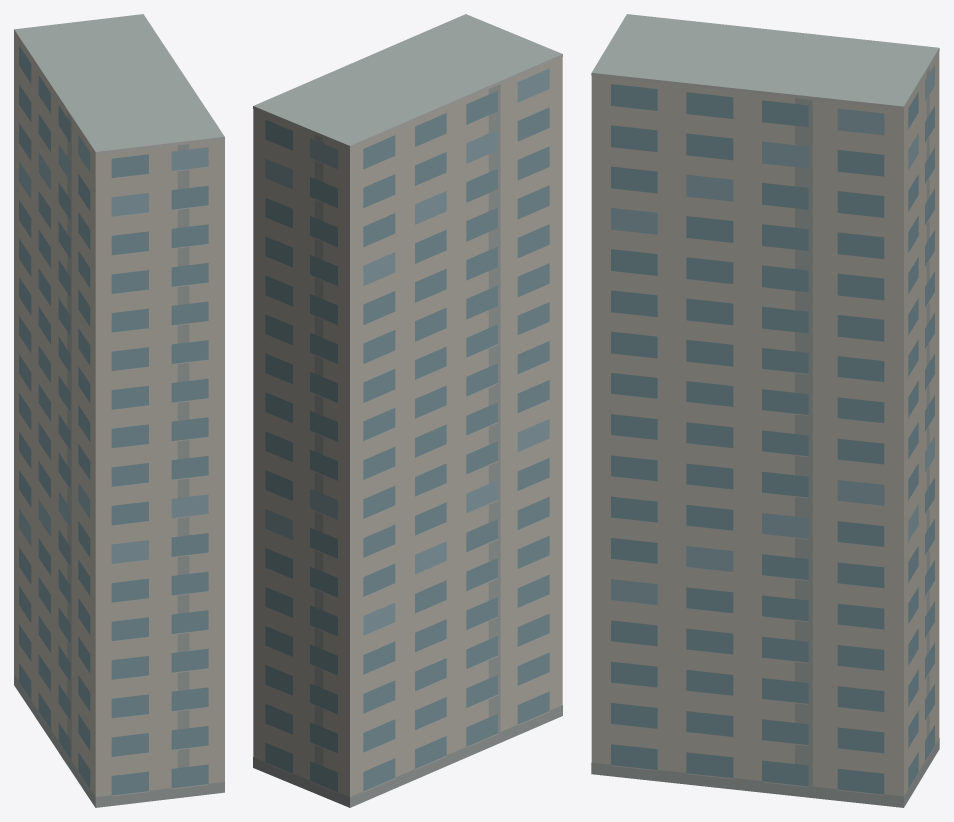
Rendered from residential-c74147e0-d6d4-4a89-8ddb-b547be8fc96f.glb.
3 renders of one model, left to right at view 1: azimuth 30°, elevation 25°; view 2: azimuth 150°, elevation 25°; view 3: azimuth 270°, elevation 25°, orthographic. The views are drawn at different scales.
Parts seen in each view (by area): view 1: residential-c74147e0-d6d4-4a89-8ddb-b547be8fc96f.tmp; view 2: residential-c74147e0-d6d4-4a89-8ddb-b547be8fc96f.tmp; view 3: residential-c74147e0-d6d4-4a89-8ddb-b547be8fc96f.tmp.
Boxes of the visible parts, x1,y1,x2,y2 form: residential-c74147e0-d6d4-4a89-8ddb-b547be8fc96f.tmp: [14, 14, 224, 807]; residential-c74147e0-d6d4-4a89-8ddb-b547be8fc96f.tmp: [253, 14, 562, 807]; residential-c74147e0-d6d4-4a89-8ddb-b547be8fc96f.tmp: [591, 14, 939, 807].
Bounding box in the file's own units: 14.44 × 51 × 22.94.
